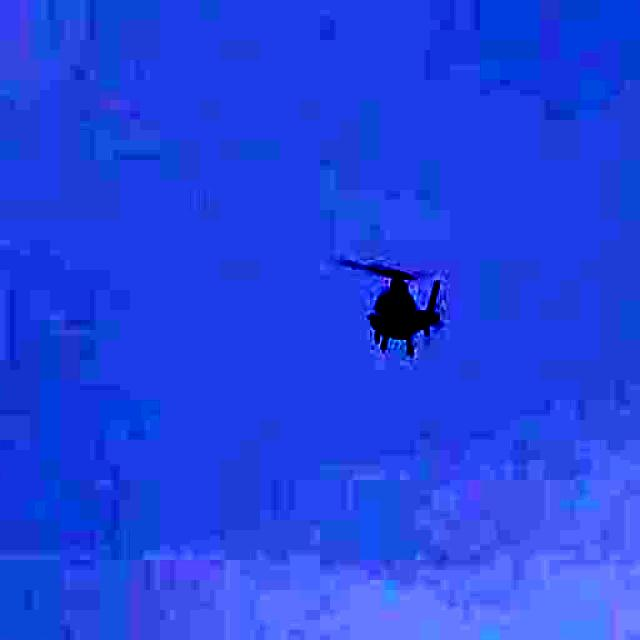drone: (314, 235, 474, 372)
